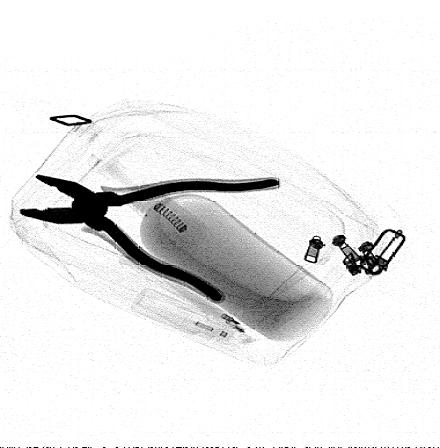Pliers: (16, 171, 284, 304)
